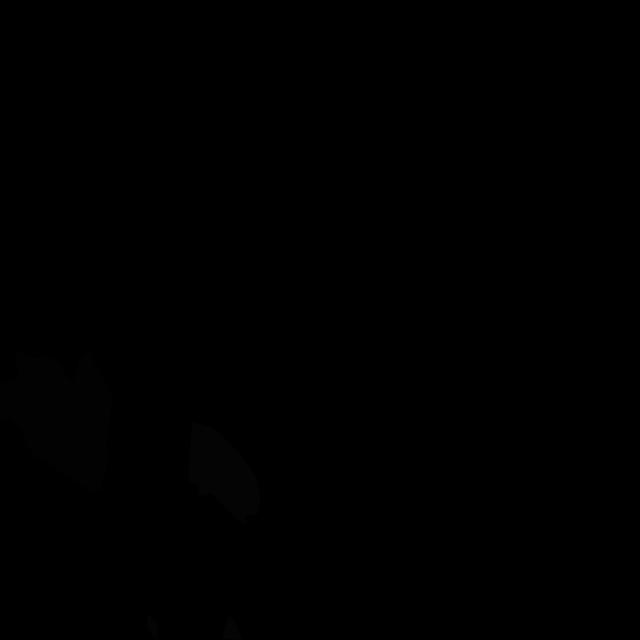cardboard: (0, 351, 112, 491)
soft_plastic: (188, 422, 260, 524), (222, 612, 242, 640), (147, 614, 158, 640)
